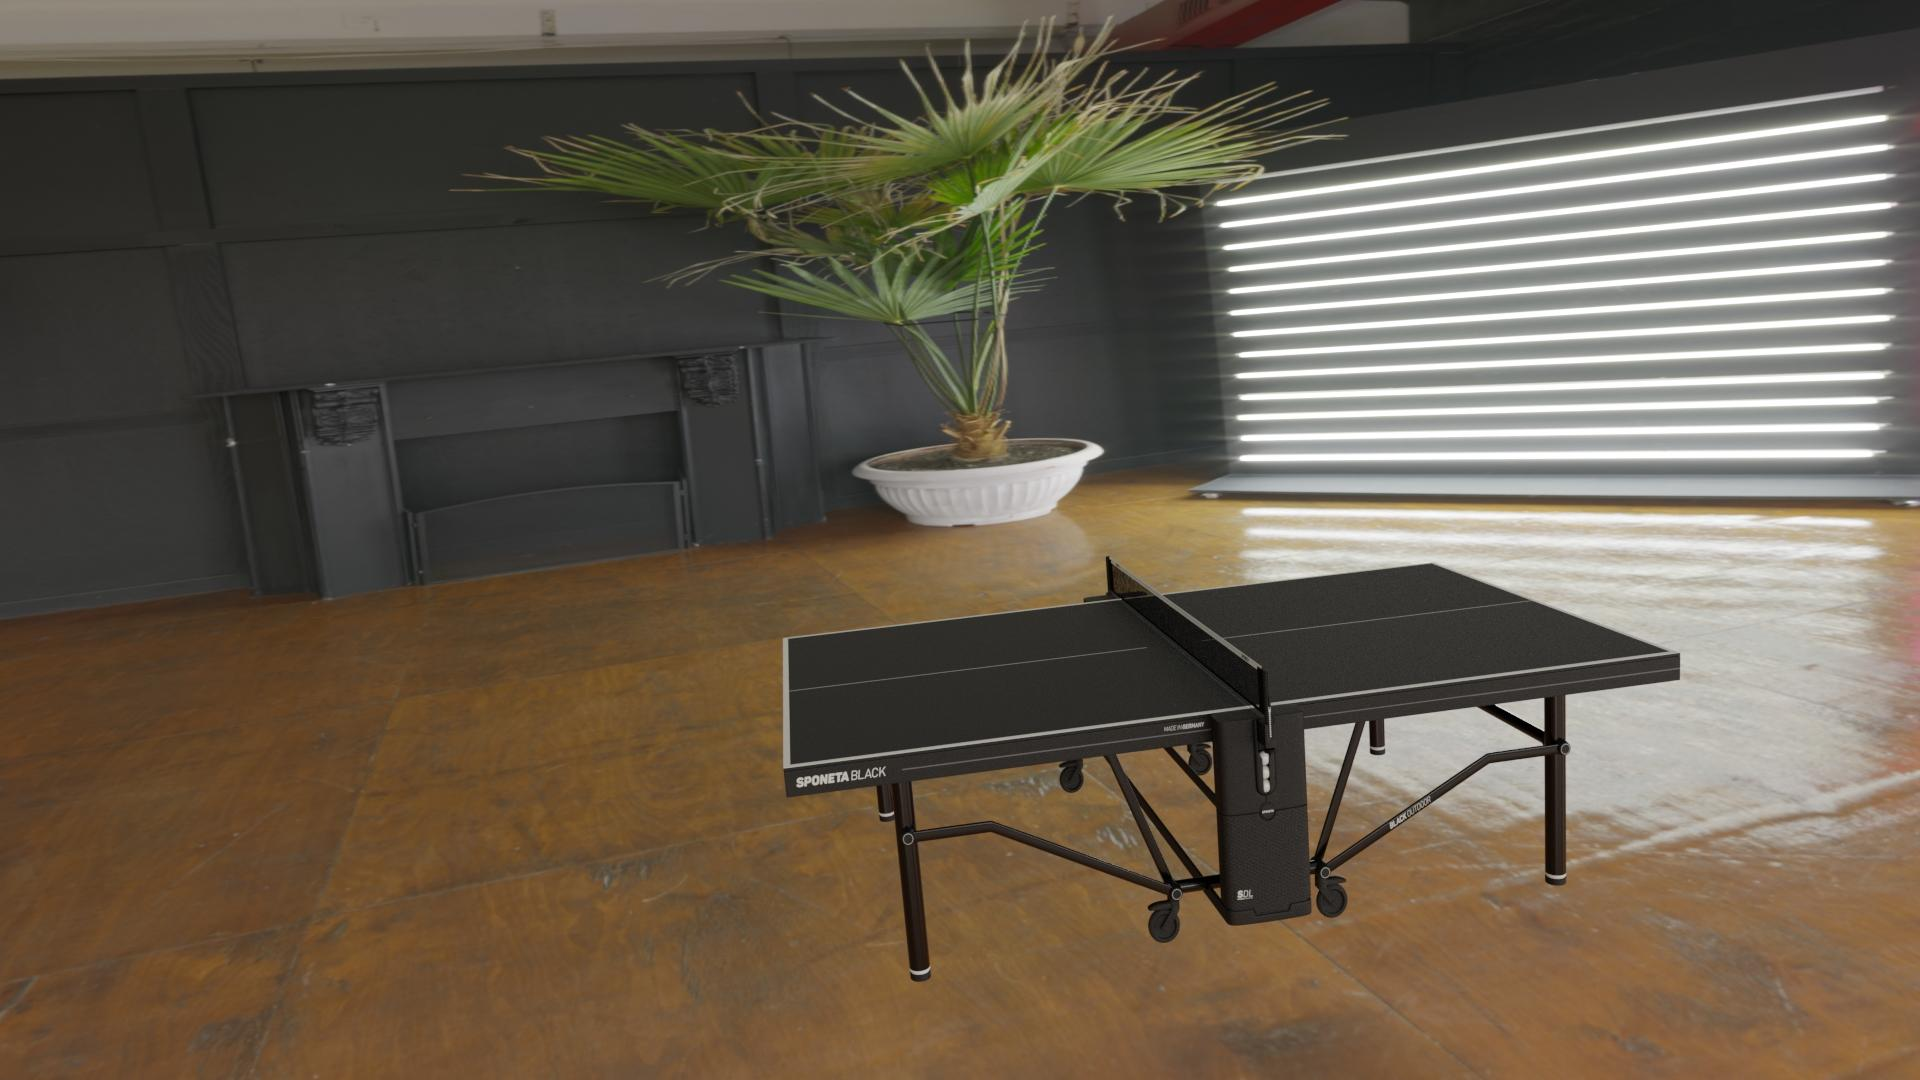table: (789, 563, 1671, 765)
